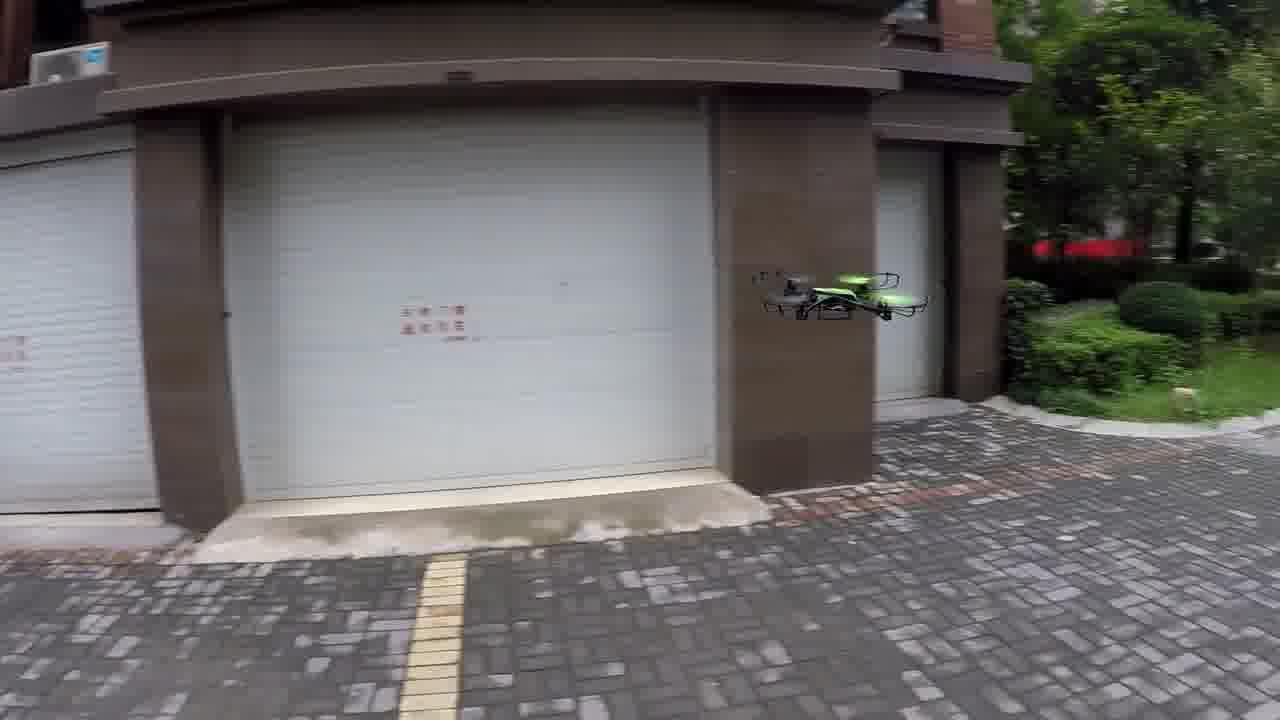drone: (748, 262, 926, 333)
